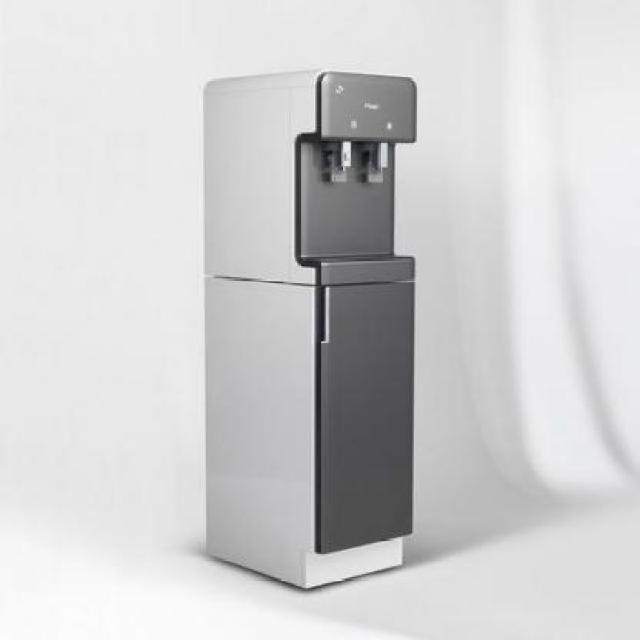cooler: (200, 67, 415, 596)
